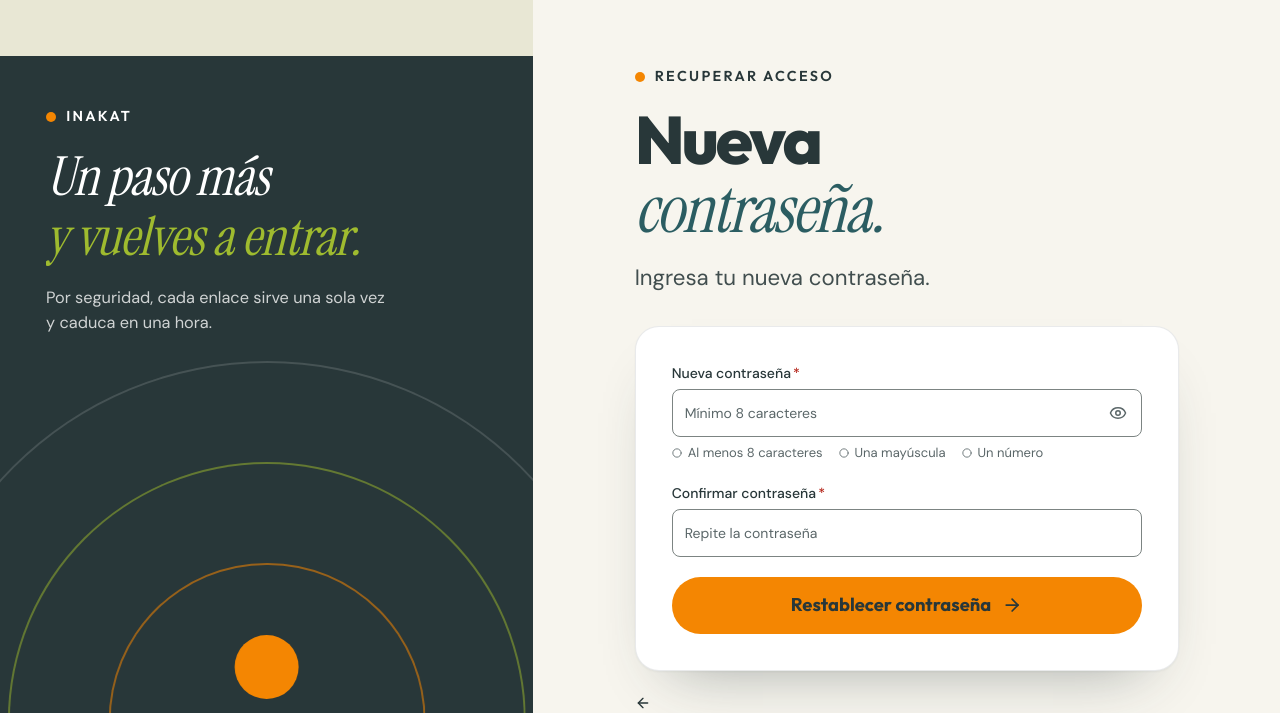
Test: AUTHUI-008: política de contraseña en /reset-password › rechaza en el cliente una contraseña de menos de 8 caracteres, sin gastar un request
Type "abc123" into the password field with placeholder "Mínimo 8 caracteres" at (907, 413), box [672, 389, 1142, 437]
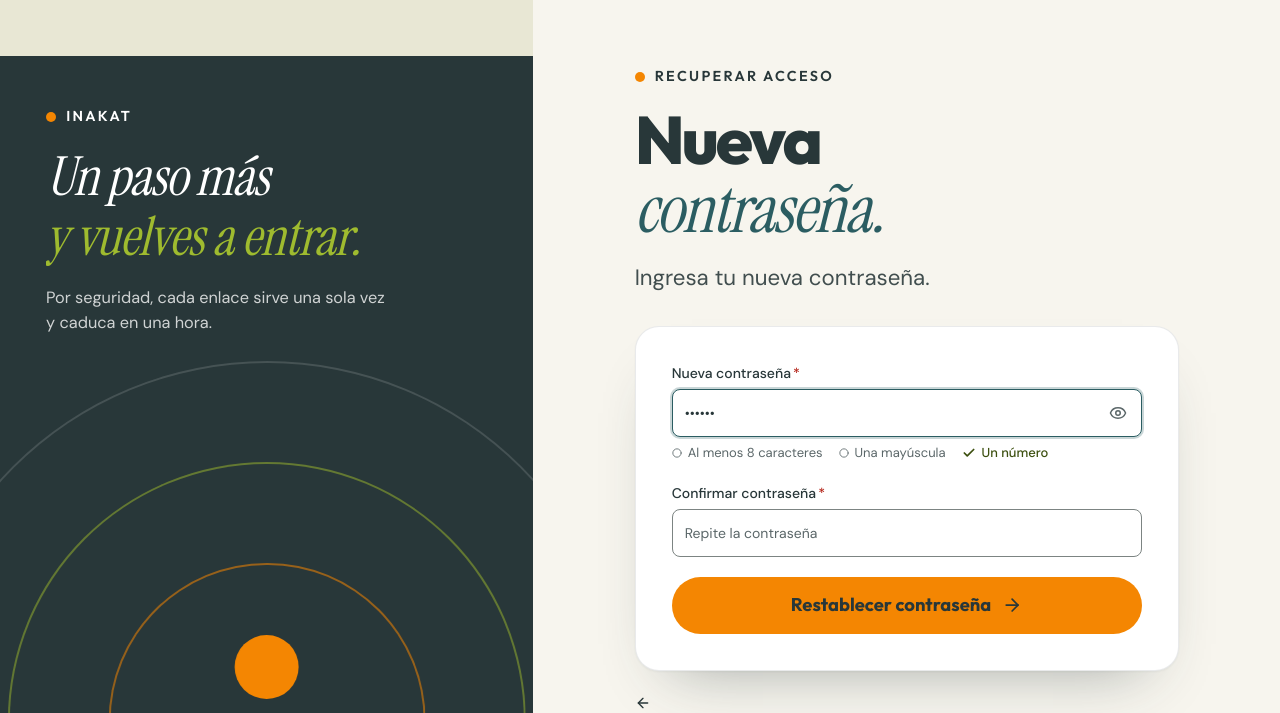
Type "abc123" into the password field with placeholder "Repite la contraseña" at (907, 533), box [672, 509, 1142, 557]
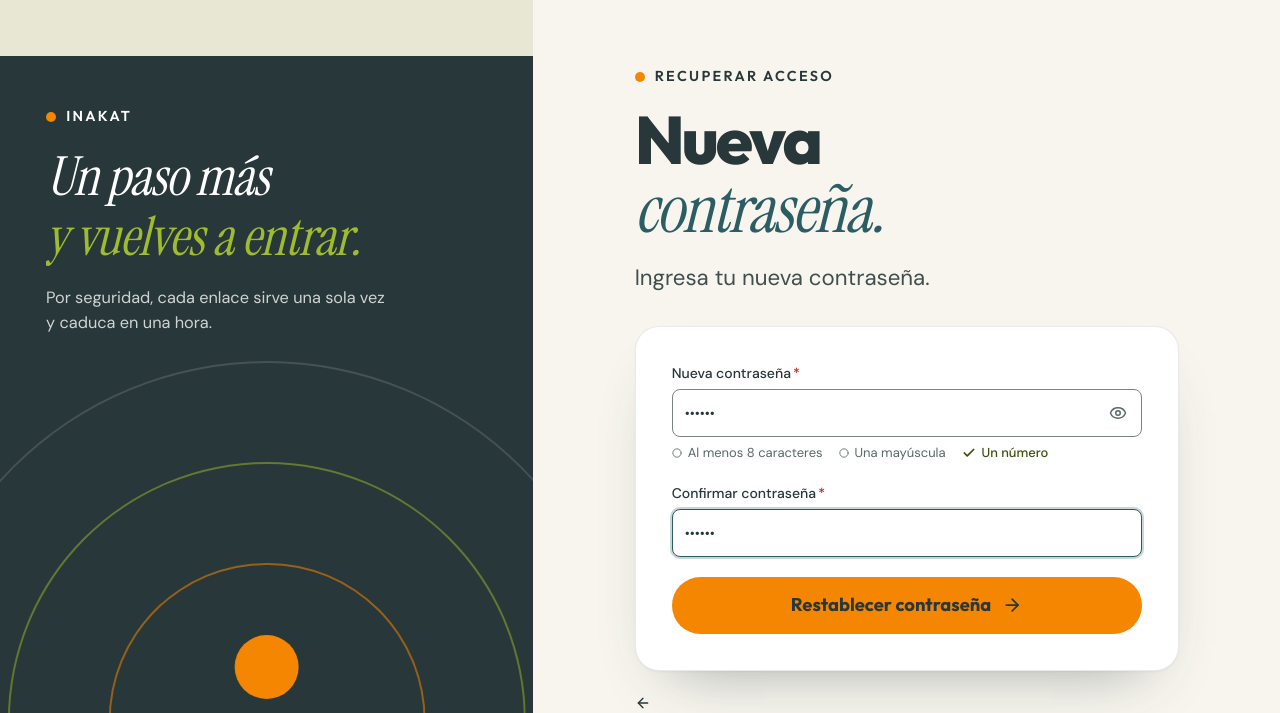
Submit the form named "Restablecer contraseña", box [672, 363, 1142, 634]
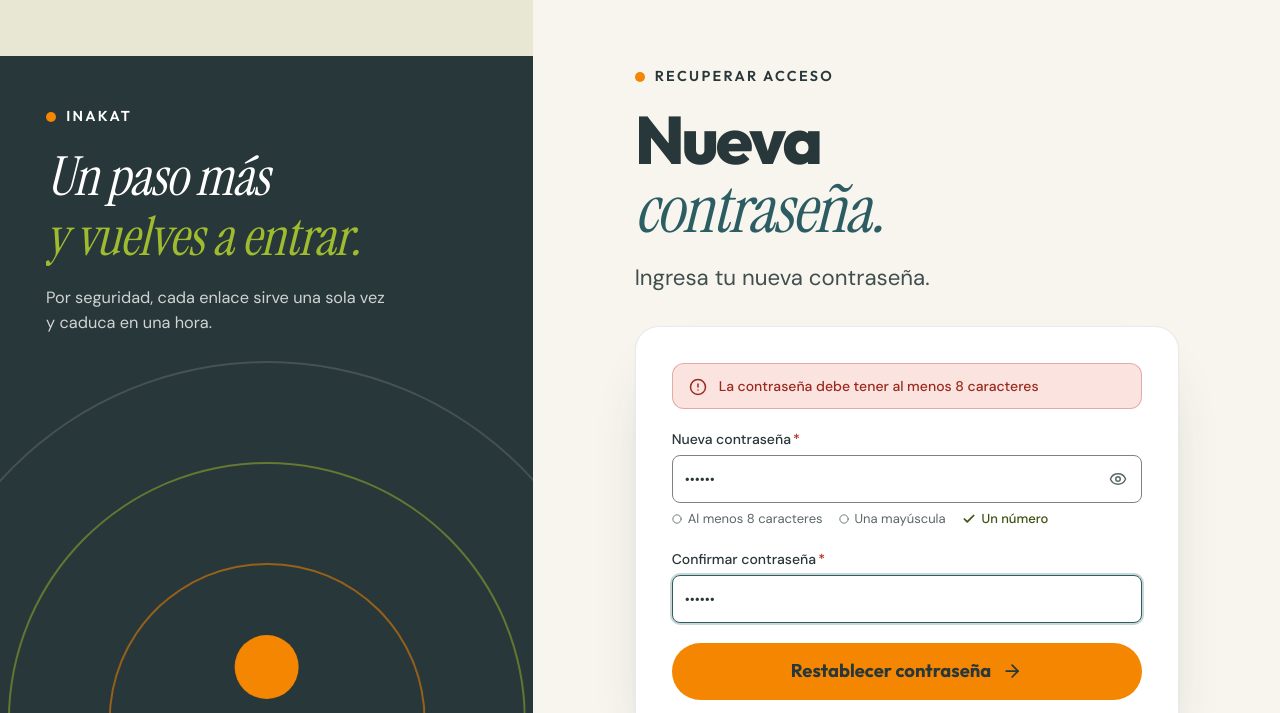
Expected: the text "La contraseña debe tener al menos 8 caracteres" is shown, [719, 377, 1039, 395]
